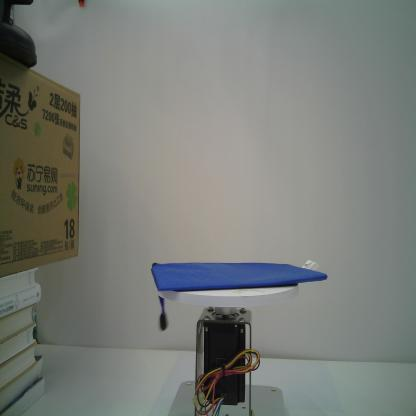Stationery: (151, 261, 329, 331)
